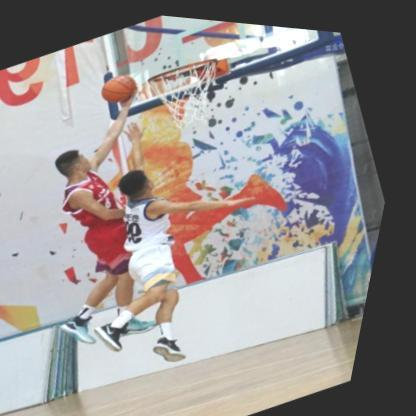basketball: (97, 66, 145, 107)
rim: (139, 44, 244, 137)
